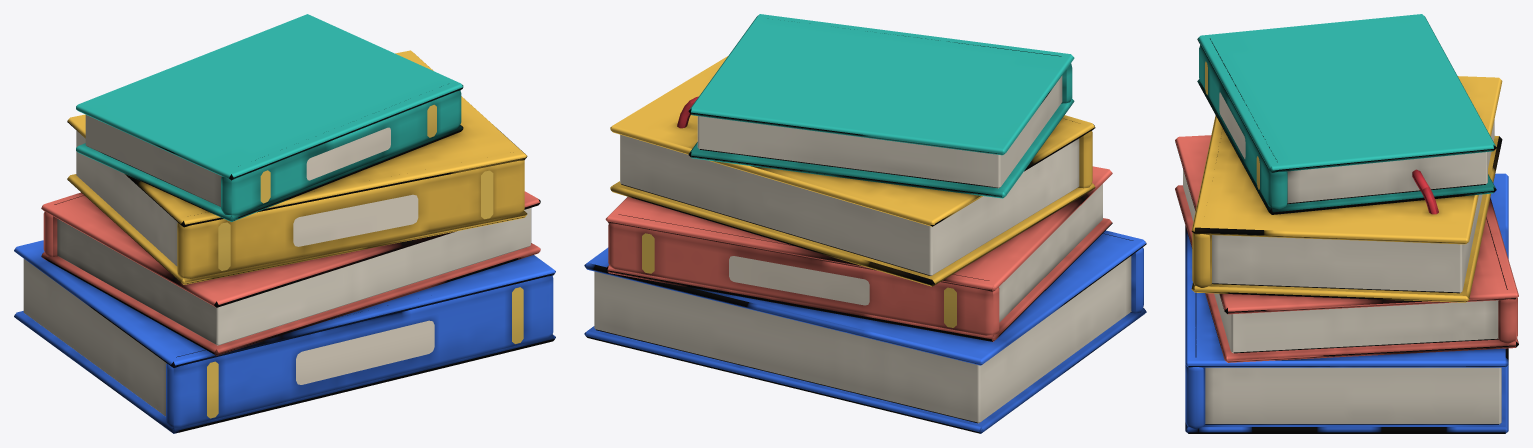
The model's file is books_stack.glb.
The picture shows the model from 3 angles, left to right: view 1: azimuth 30°, elevation 25°; view 2: azimuth 150°, elevation 25°; view 3: azimuth 270°, elevation 25°; orthographic projection. The views are drawn at different scales.
Parts seen in each view (by area): view 1: books_stack; view 2: books_stack; view 3: books_stack.
Boxes of the visible parts, x1,y1,x2,y2 form: books_stack: (14,14,555,433); books_stack: (584,14,1146,433); books_stack: (1175,14,1518,433).
Bounding box in the file's own units: 0.253 × 0.149 × 0.1914.
8 materials, 8 textured.
